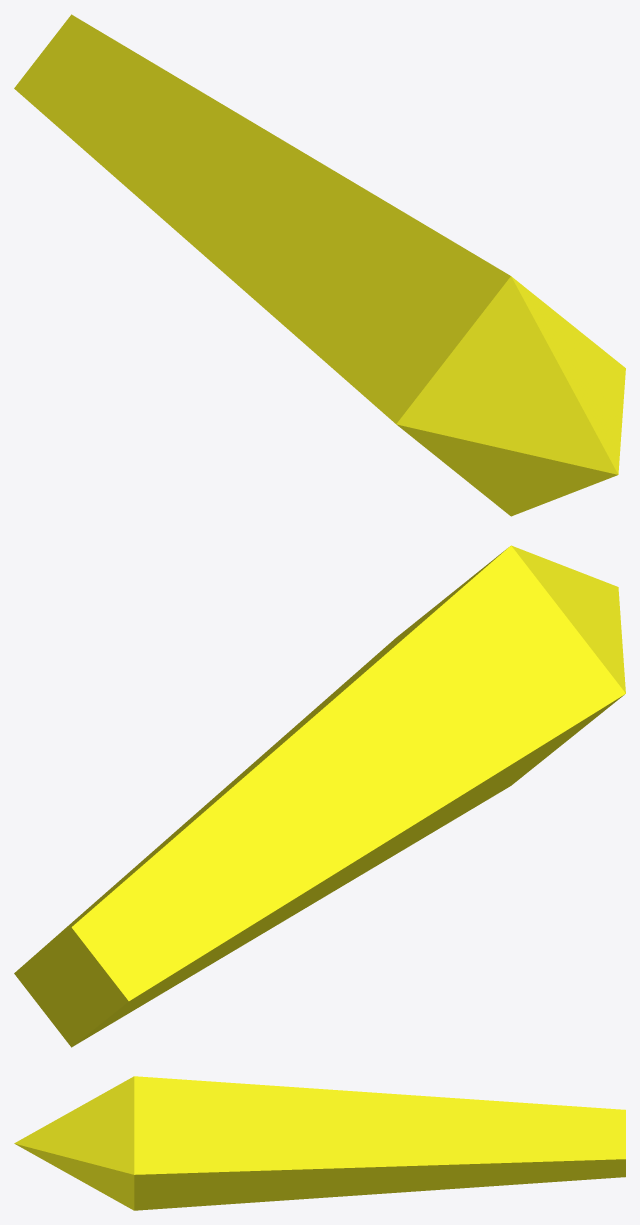
The model's file is bullet_yellow.FBX.
3 renders of one model, top to bottom at view 1: azimuth 30°, elevation 25°; view 2: azimuth 150°, elevation 25°; view 3: azimuth 270°, elevation 25°, orthographic. The views are drawn at different scales.
Parts seen in each view (by area): view 1: bullet_yellow; view 2: bullet_yellow; view 3: bullet_yellow.
Boxes of the visible parts, bbox=[...] form: bullet_yellow: bbox=[14, 14, 625, 516]; bullet_yellow: bbox=[14, 545, 625, 1047]; bullet_yellow: bbox=[14, 1076, 625, 1210].
Bounding box in the file's own units: 213 × 213 × 878.
